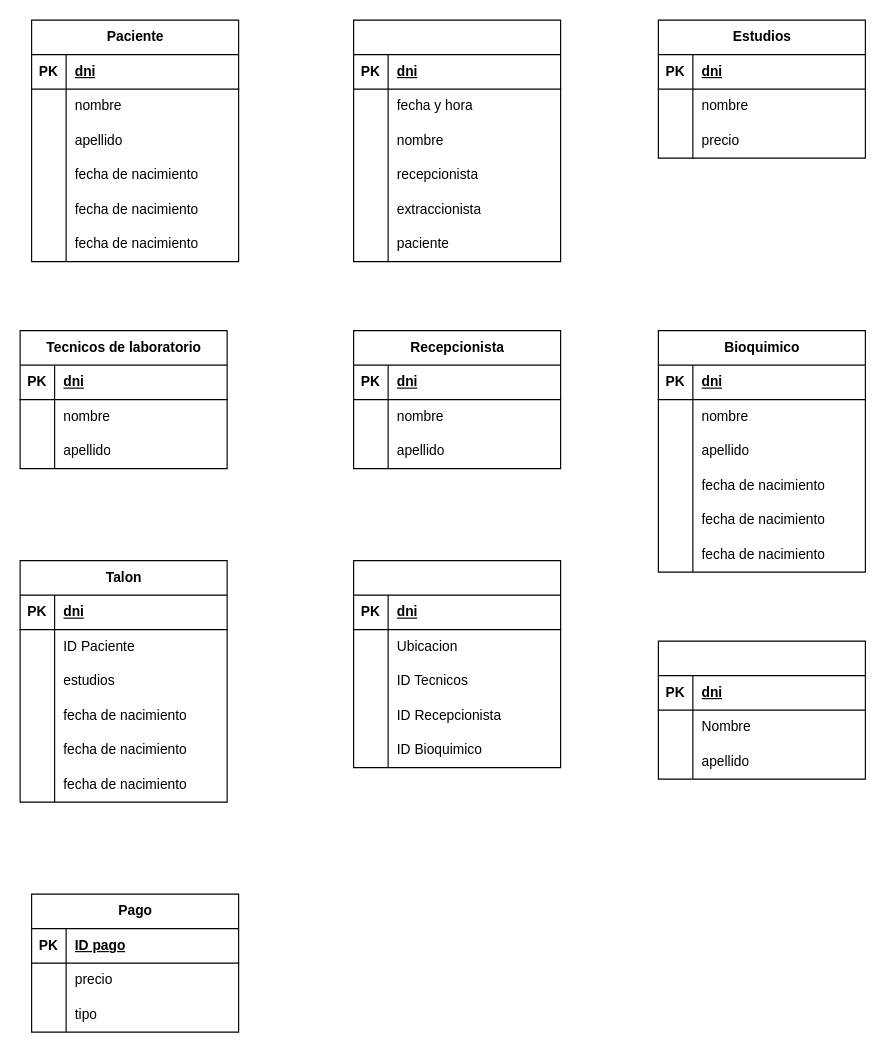
The diagram is 886 pixels wide and 1052 high, and some of its shapes have lost their labels. The shapes that lost their labels are listed below. From the top down, each one's box as (x1, y1, x2, y2) in pixels, then its label:
(352, 19, 561, 262): Turno
(352, 559, 561, 768): Laboratorio
(657, 640, 865, 779): Dueño
